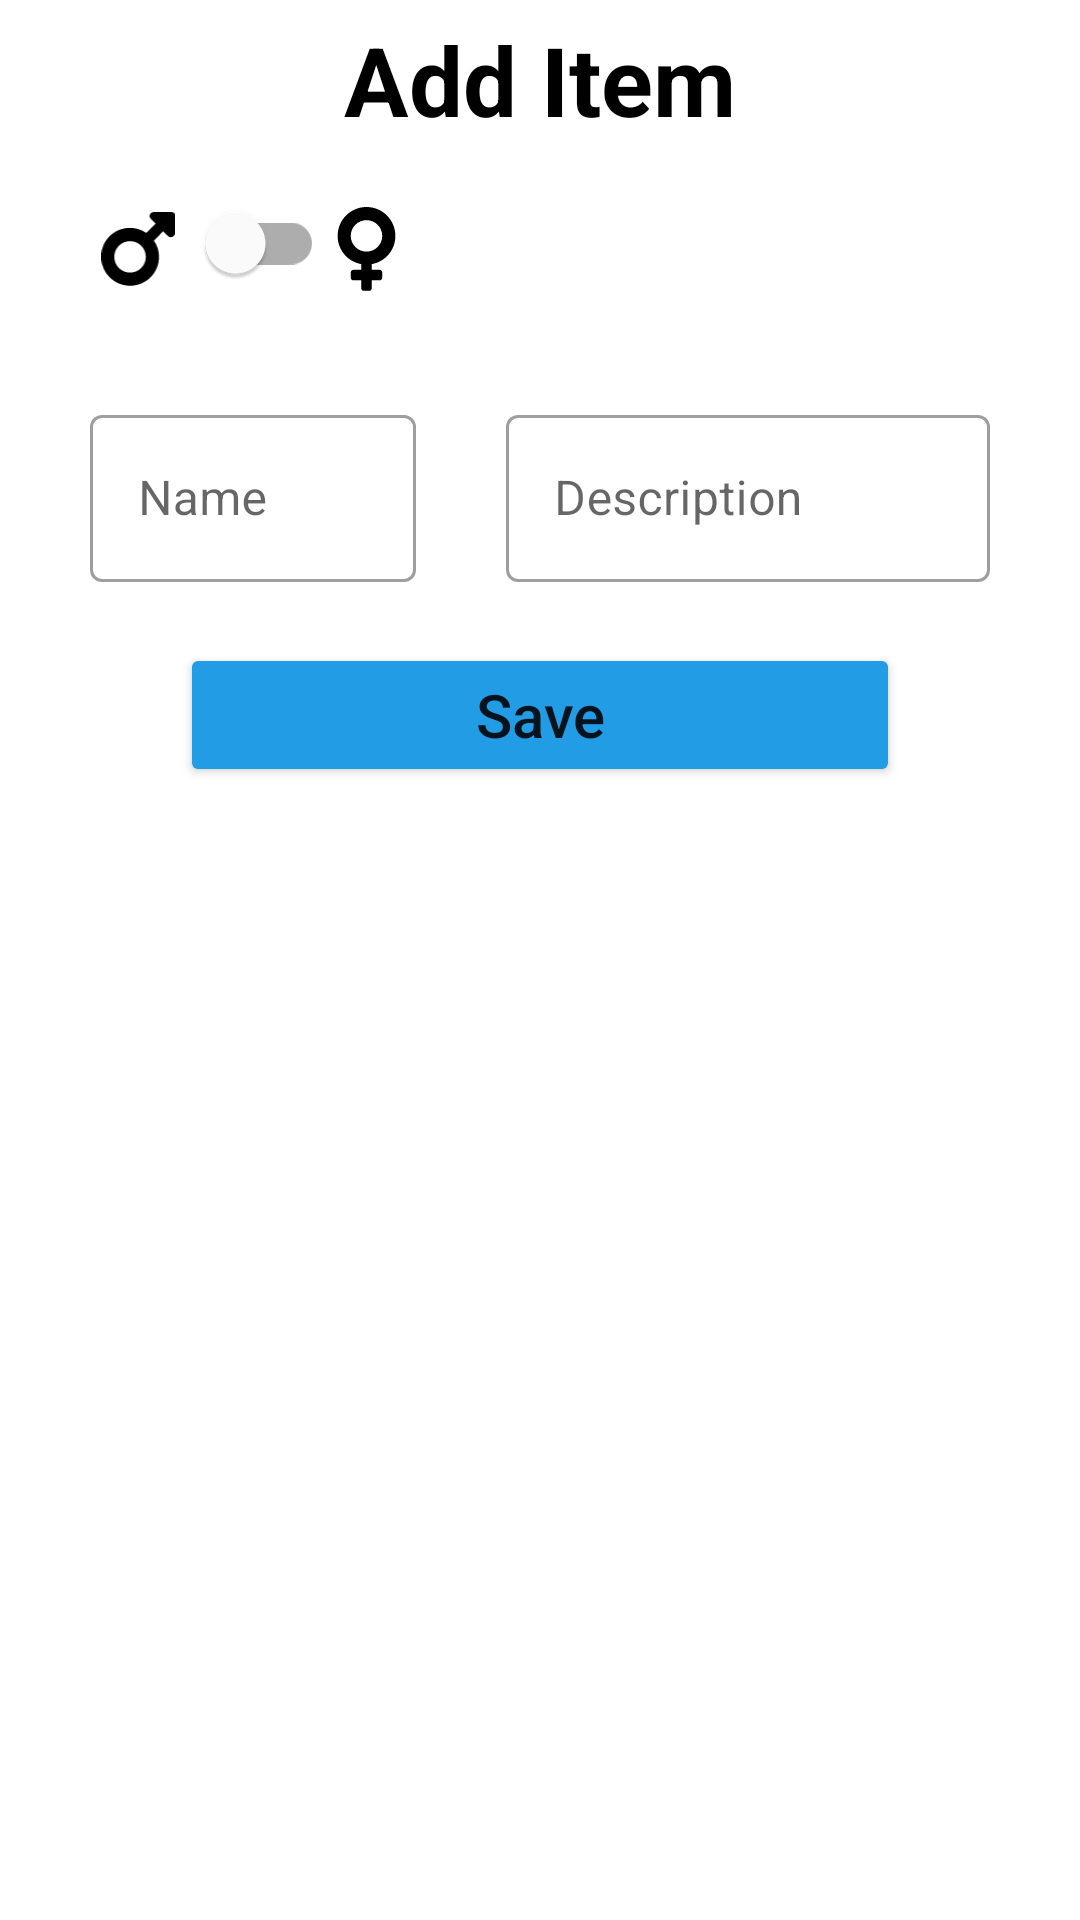

Icons on this 1080px×1920px Android screen, each with the point to tap as (x=x, y=y):
mars: (x=138, y=249)
venus: (x=366, y=249)
